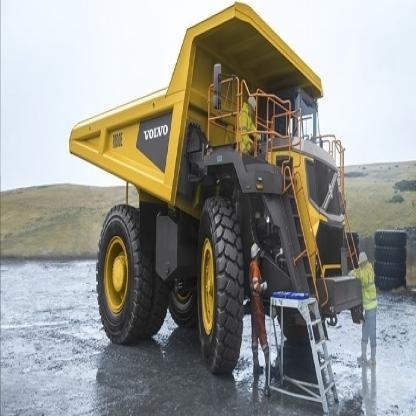dump_truck: (64, 4, 371, 364)
person: (353, 229, 384, 382), (248, 241, 279, 377)
